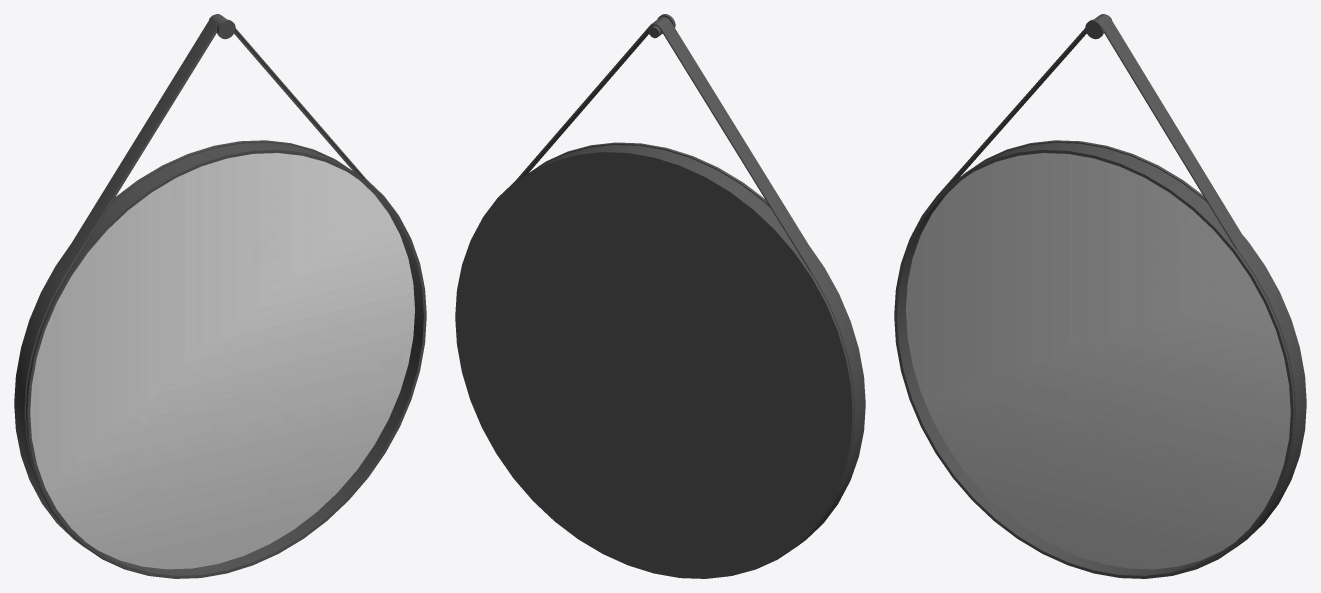
The model's file is round_mirror.glb.
3 views of the same model, side by side, from view 1: azimuth 30°, elevation 25°; view 2: azimuth 150°, elevation 25°; view 3: azimuth 330°, elevation 25° (orthographic).
Visible parts, largest first — view 1: Geom3D (×2); view 2: Geom3D; view 3: Geom3D (×2).
Boxes of the visible parts, box(x1,y1,x2,y2) form: Geom3D (×2): box(14, 14, 426, 578); Geom3D: box(455, 14, 865, 578); Geom3D (×2): box(894, 14, 1306, 578).
Size of the model in its own units: 0.7041 by 0.927 by 0.0399.
Materials: 2 (1 with a texture image).
